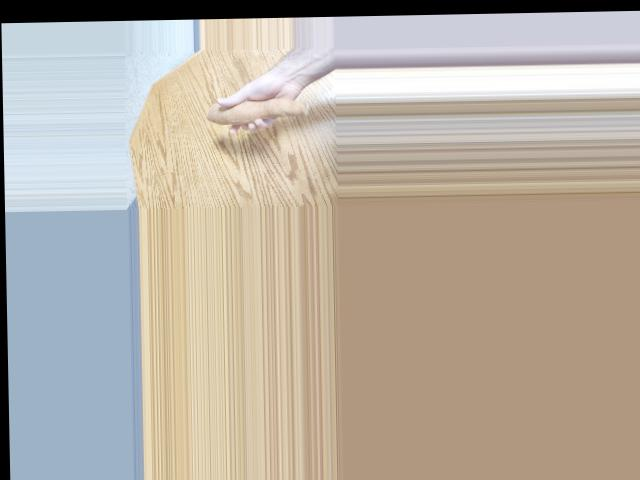sweet_potato: (197, 86, 313, 128)
